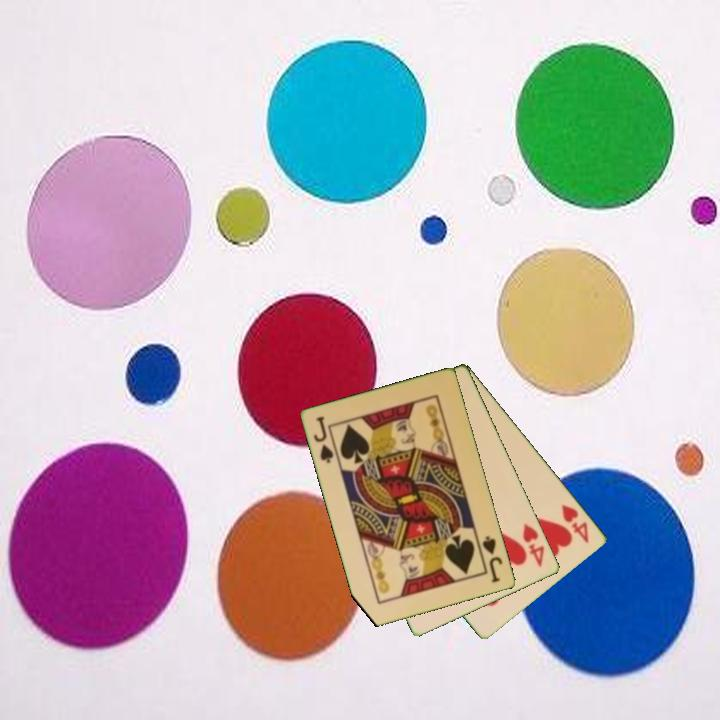4h: (558, 501, 592, 546), (519, 520, 548, 570)
Js: (479, 532, 506, 586), (310, 413, 337, 466)
